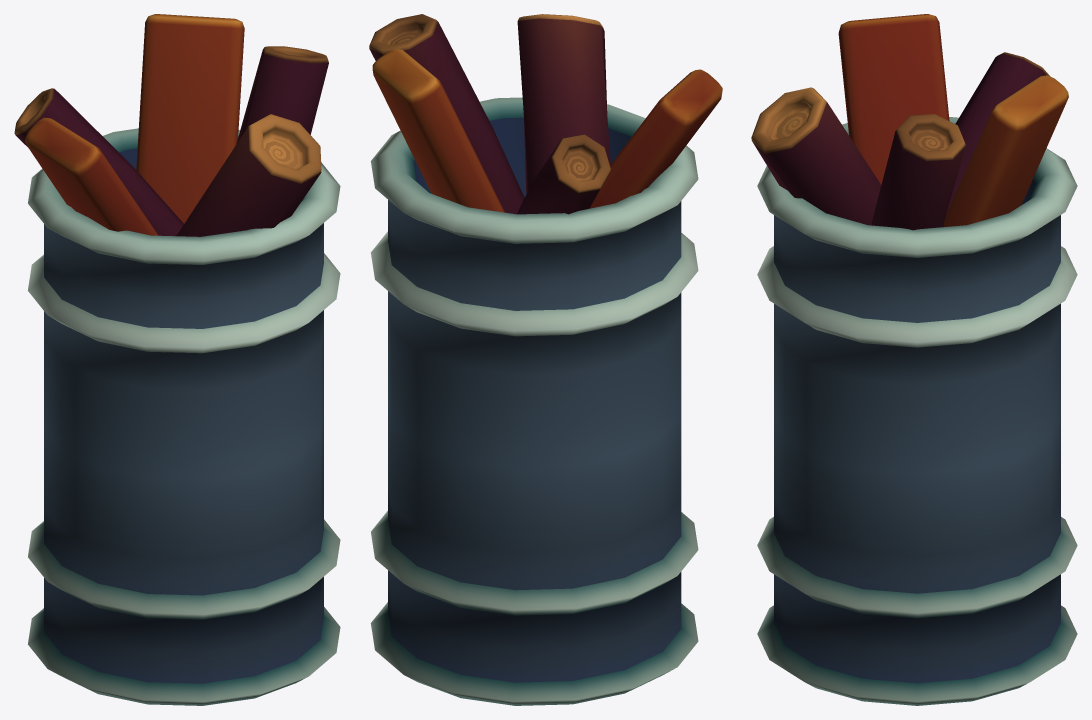
The model's file is SM_trashcan_001.fbx.
3 renders of one model, left to right at view 1: azimuth 30°, elevation 25°; view 2: azimuth 150°, elevation 25°; view 3: azimuth 270°, elevation 25°, orthographic. The views are drawn at different scales.
Visible parts, largest first — view 1: SM_trashcan_001; view 2: SM_trashcan_001; view 3: SM_trashcan_001.
Boxes of the visible parts, x1,y1,x2,y2 form: SM_trashcan_001: (14,14,340,705); SM_trashcan_001: (369,14,722,705); SM_trashcan_001: (751,14,1077,705).
Bounding box in the file's own units: 97.55 × 178 × 90.06.
